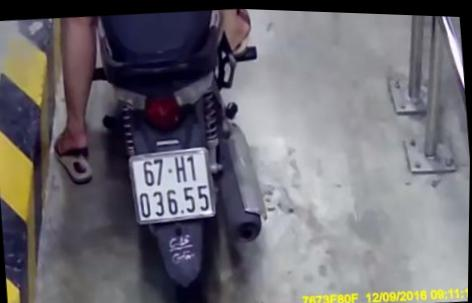LP: (125, 139, 221, 227)
